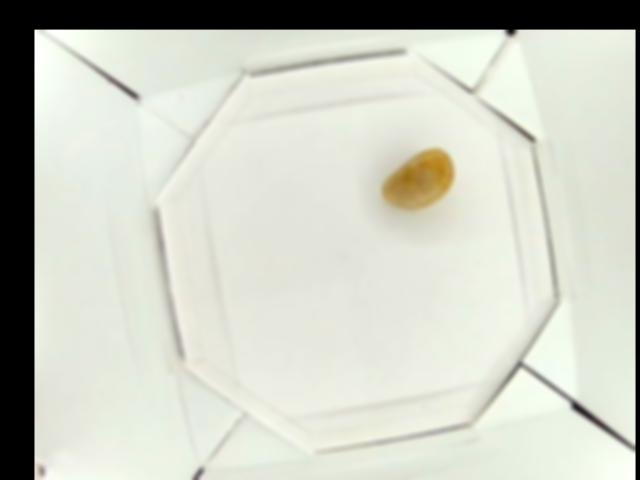Pebble: (381, 147, 456, 208)
